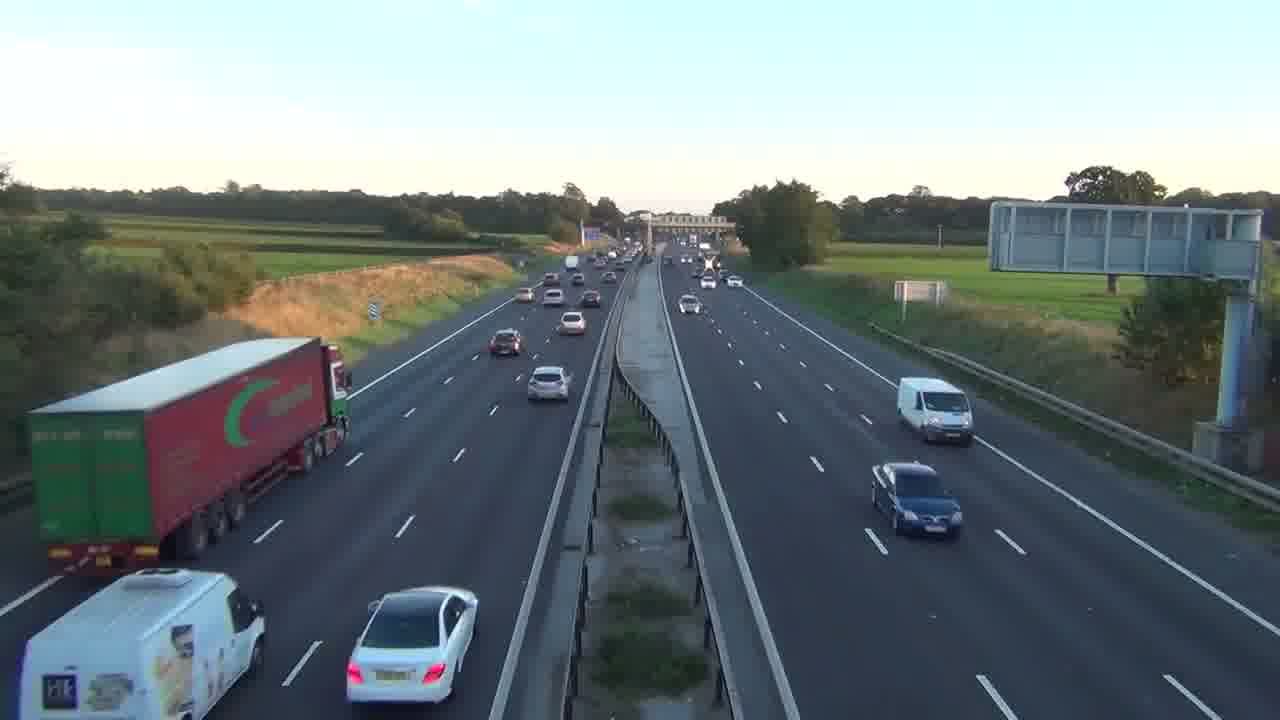car: (345, 585, 480, 704), (870, 460, 964, 537), (526, 365, 571, 402), (489, 329, 522, 357), (558, 310, 587, 337), (679, 293, 702, 314)
truck: (28, 336, 354, 573), (17, 566, 268, 718), (896, 375, 975, 445)
